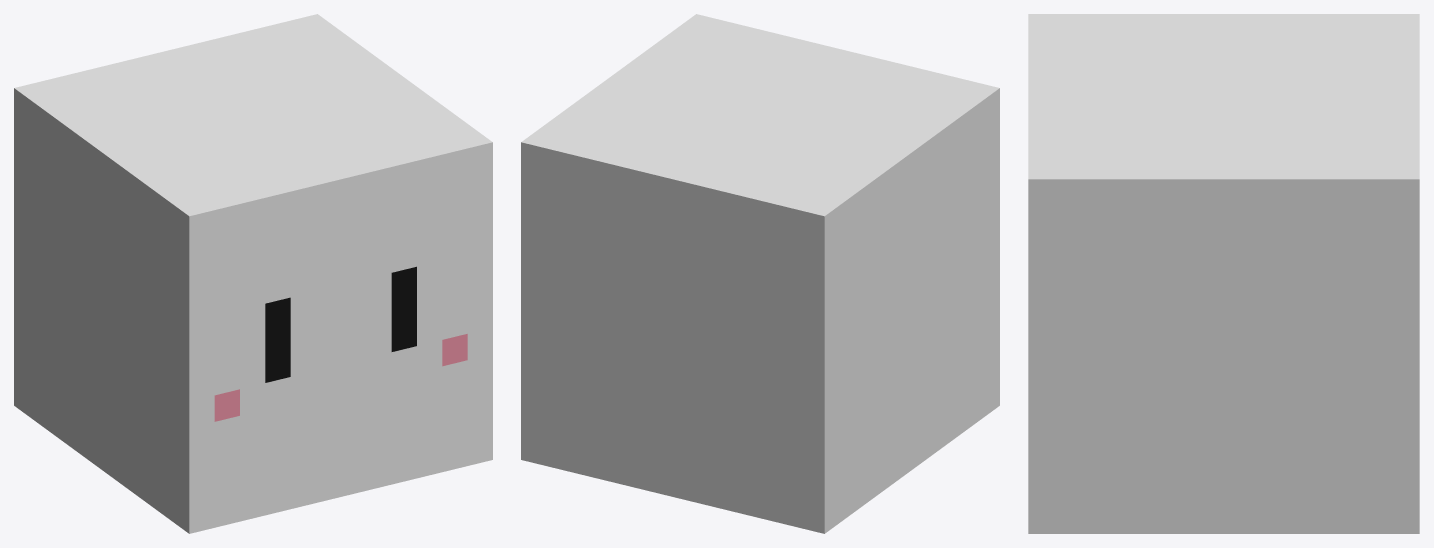
Rendered from player.obj.
The picture shows the model from 3 angles, left to right: view 1: azimuth 30°, elevation 25°; view 2: azimuth 150°, elevation 25°; view 3: azimuth 270°, elevation 25°; orthographic projection. The views are drawn at different scales.
Visible parts, largest first — view 1: Untitled.001; view 2: Untitled.001; view 3: Untitled.001.
Boxes of the visible parts, left/top/right/bottom form: Untitled.001: left=14, top=14, right=492, bottom=533; Untitled.001: left=521, top=14, right=999, bottom=533; Untitled.001: left=1028, top=14, right=1419, bottom=533.
Bounding box in the file's own units: 1.2 × 1.2 × 1.2.
